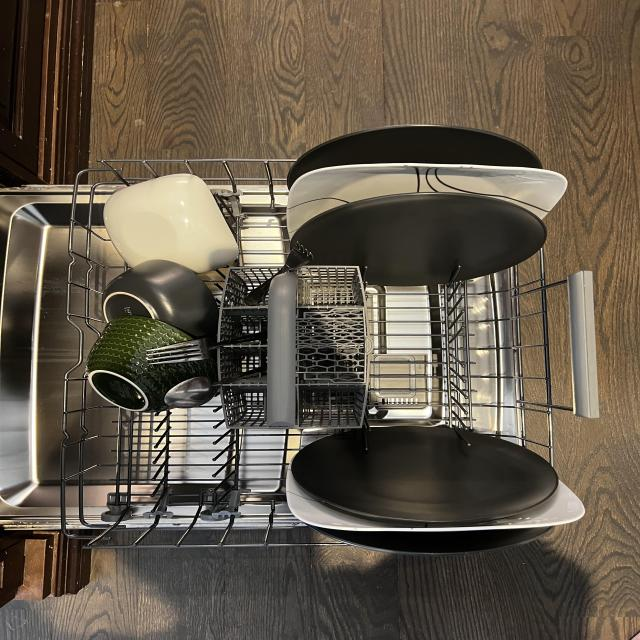Bowl: (88, 316, 216, 416)
Fork: (143, 323, 267, 368), (243, 236, 314, 307)
Plate: (290, 425, 558, 525), (289, 190, 548, 288)
Spoon: (163, 360, 266, 410)
